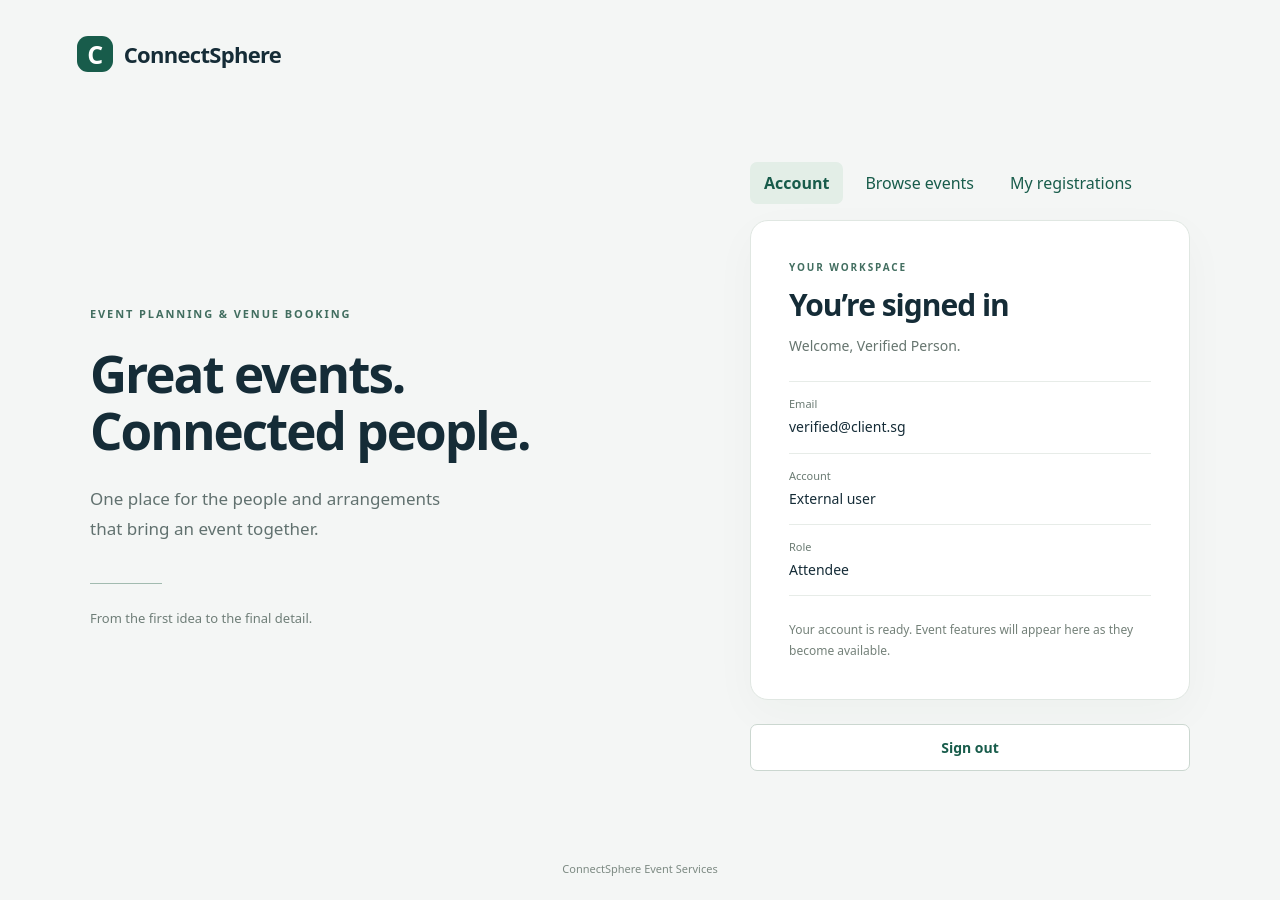
Test: [AUTH-FLOW-010] Failed sign-out displays a safe message and supports retry
Expected: the text "Welcome, Verified Person." is shown, x1=789 y1=336 x2=961 y2=355
Click the button "Sign out". click: (970, 748)
box: x1=750 y1=724 x2=1190 y2=771
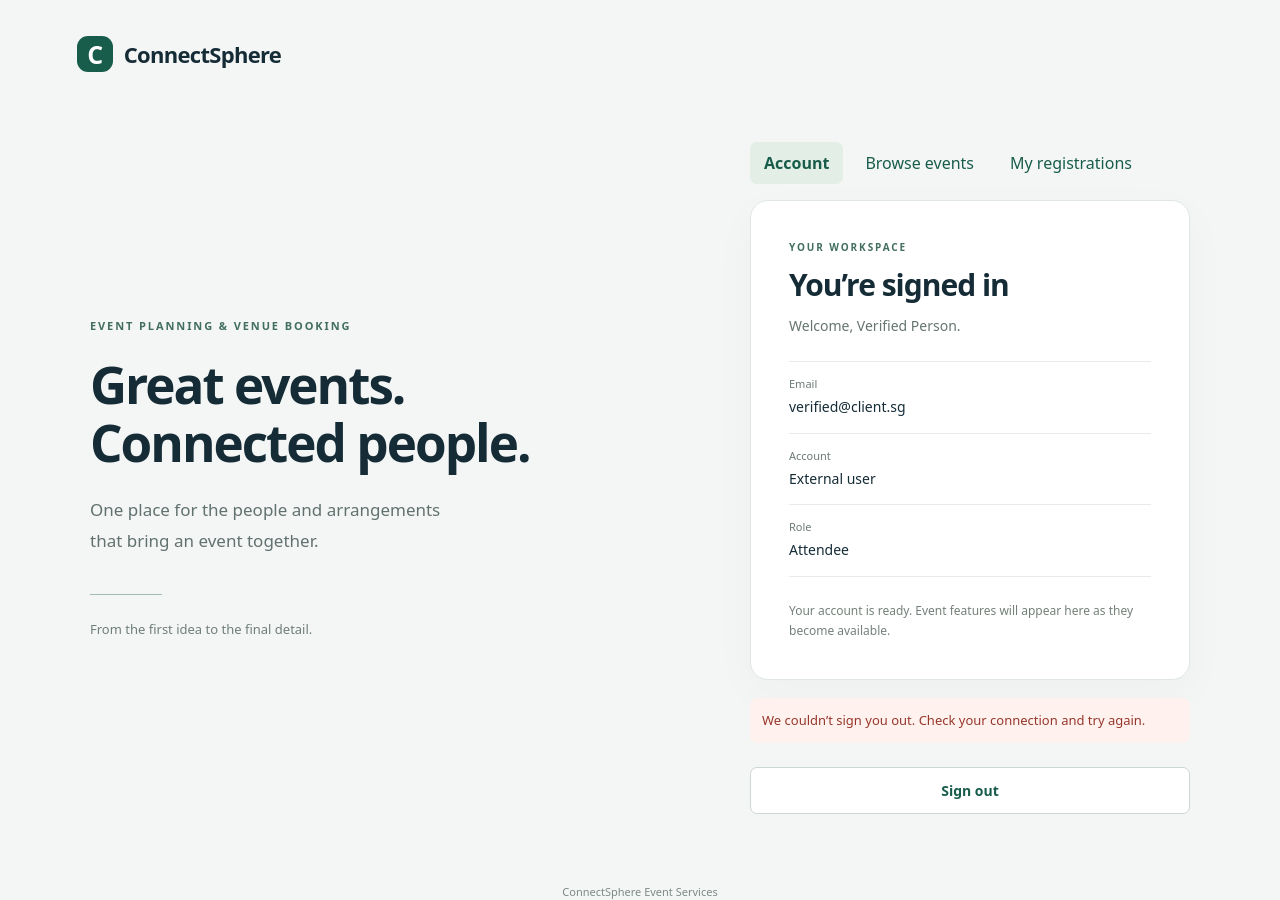
Expected: the message shows "couldn’t sign you out", x1=762 y1=711 x2=1145 y2=729
Click the button "Sign out". click: (970, 791)
box: x1=750 y1=767 x2=1190 y2=814
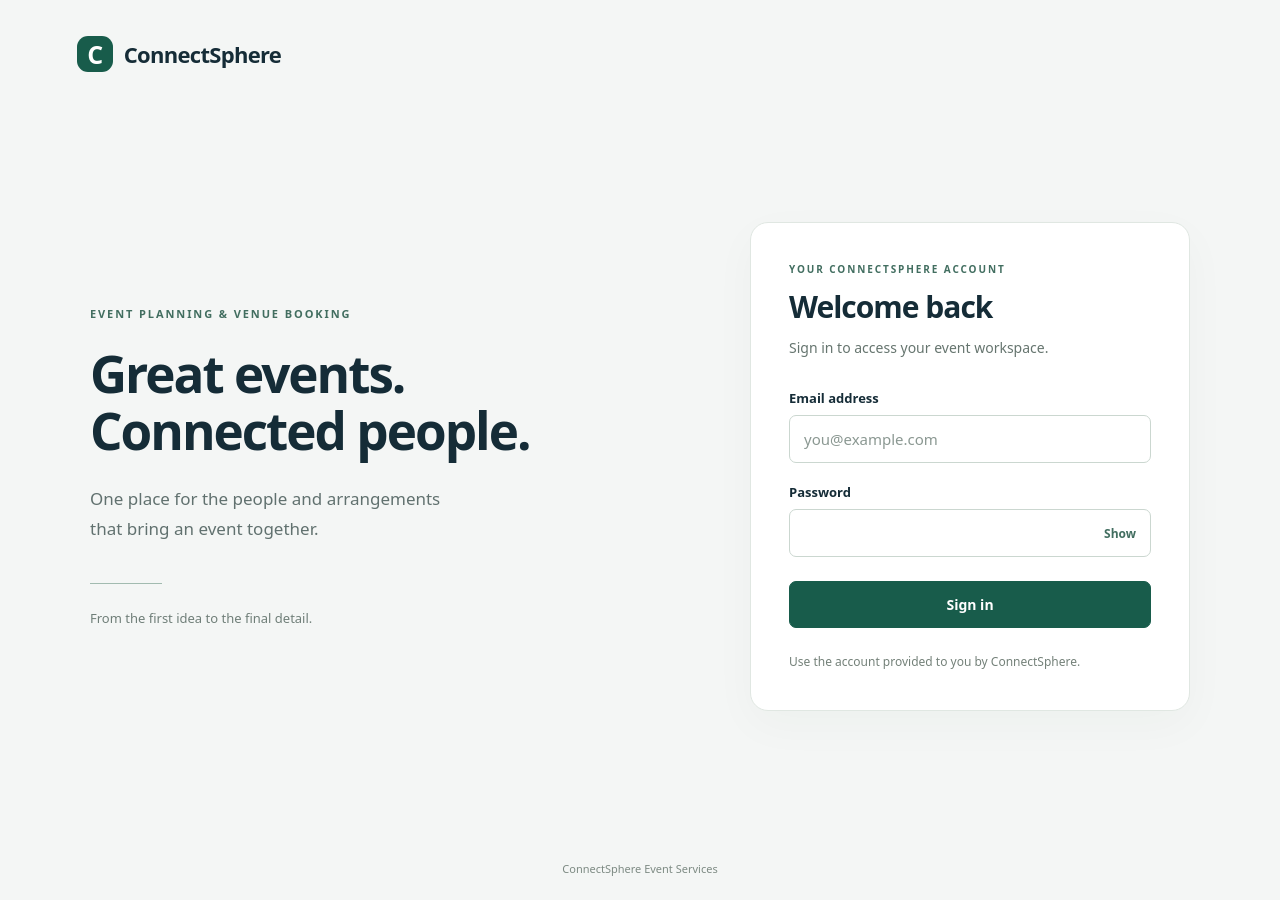
Expected: the field labelled "Email address" is shown, x1=789 y1=415 x2=1151 y2=463
